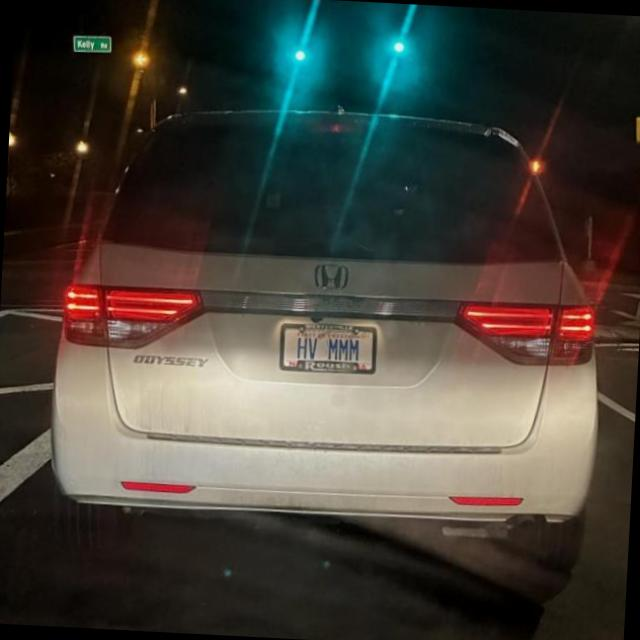LicensePlate: (277, 321, 377, 373)
